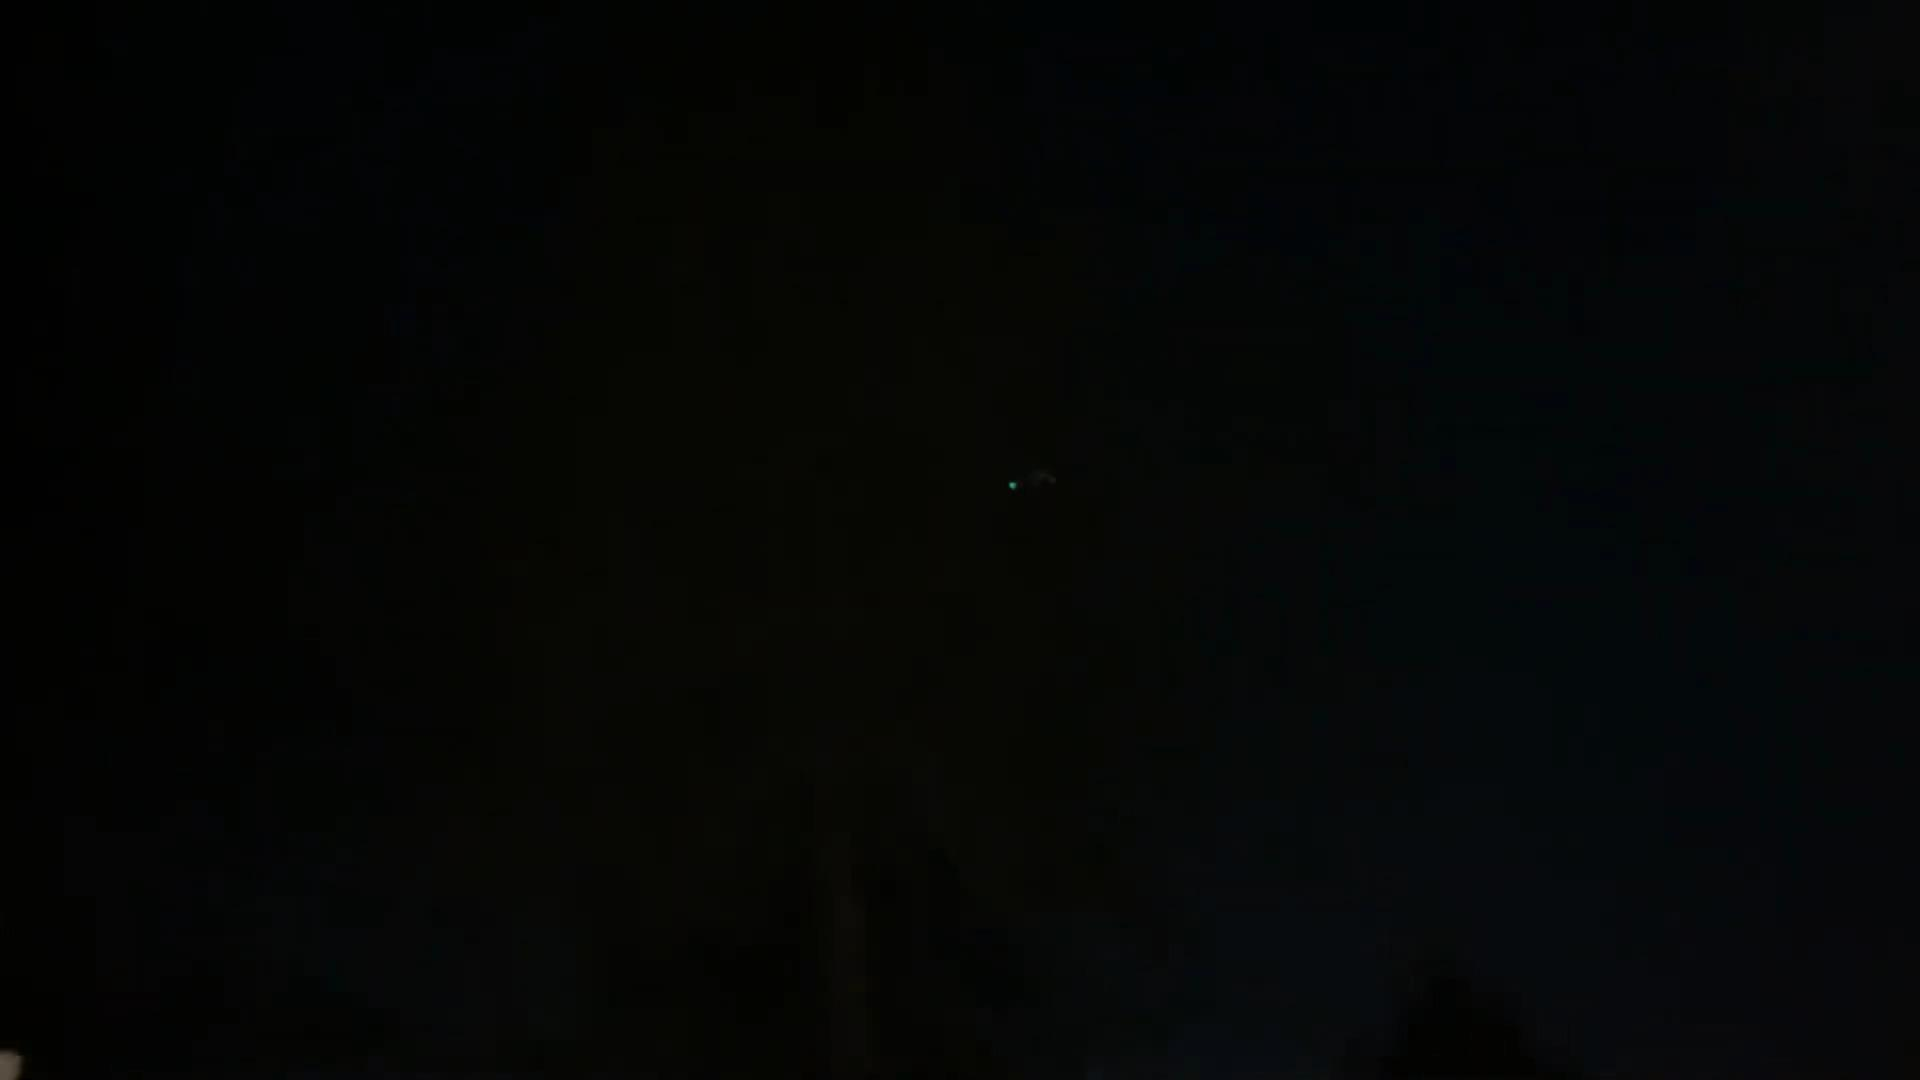Plane: (988, 463, 1081, 506)
